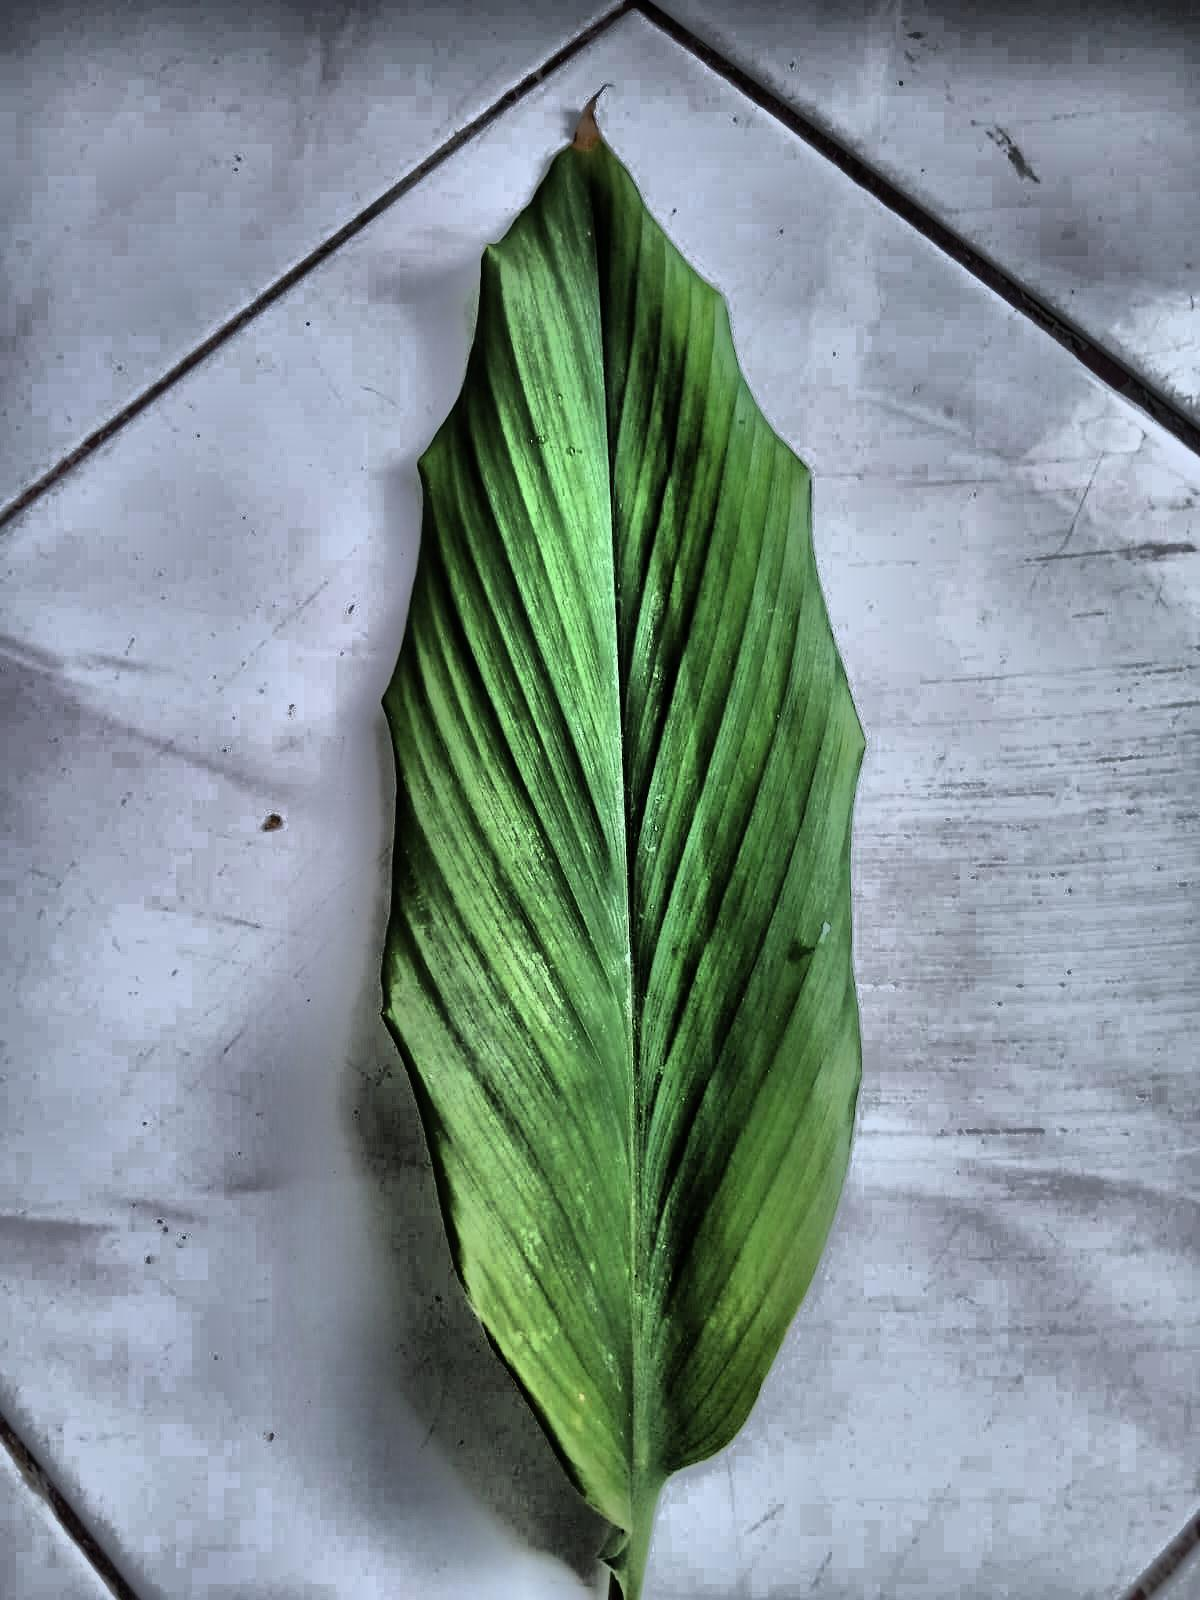daun kunyit: (382, 137, 863, 1599)
